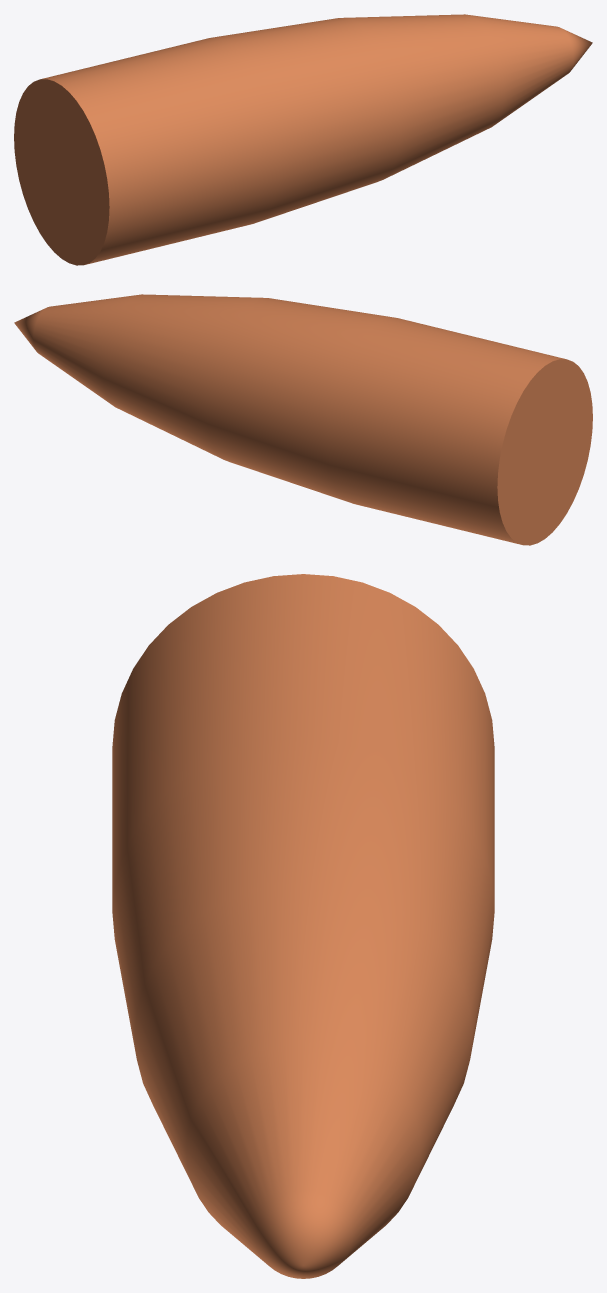
Rendered from bala_comum.obj.
3 renders of one model, top to bottom at view 1: azimuth 30°, elevation 25°; view 2: azimuth 150°, elevation 25°; view 3: azimuth 270°, elevation 25°, orthographic. The views are drawn at different scales.
Size of the model in its own units: 0.1004 by 0.0313 by 0.0313.
